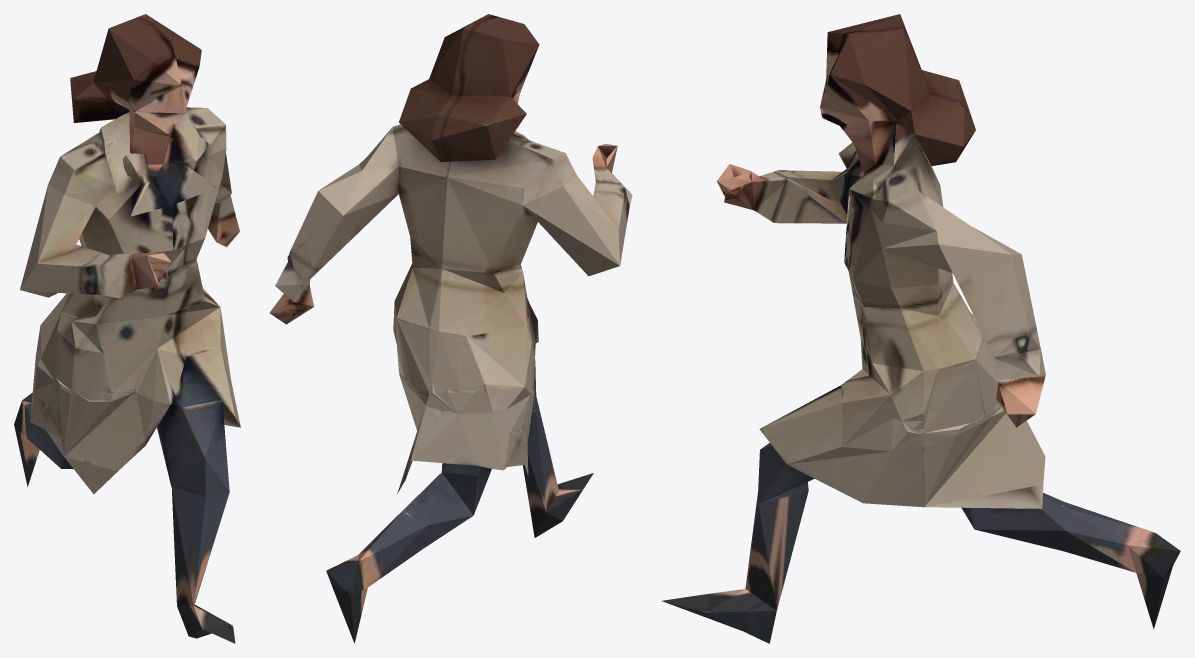
File: civ_woman.glb
The picture shows the model from 3 angles, left to right: view 1: azimuth 30°, elevation 25°; view 2: azimuth 150°, elevation 25°; view 3: azimuth 270°, elevation 25°; orthographic projection. The views are drawn at different scales.
Parts seen in each view (by area): view 1: geometry_0; view 2: geometry_0; view 3: geometry_0.
Part boxes in pixels (x1=…): geometry_0: x1=14, y1=14, x2=240, y2=643; geometry_0: x1=269, y1=14, x2=632, y2=643; geometry_0: x1=662, y1=14, x2=1180, y2=643.
Bounding box in the file's own units: 0.5198 × 0.9967 × 0.7579.
1 material, 1 textured.
